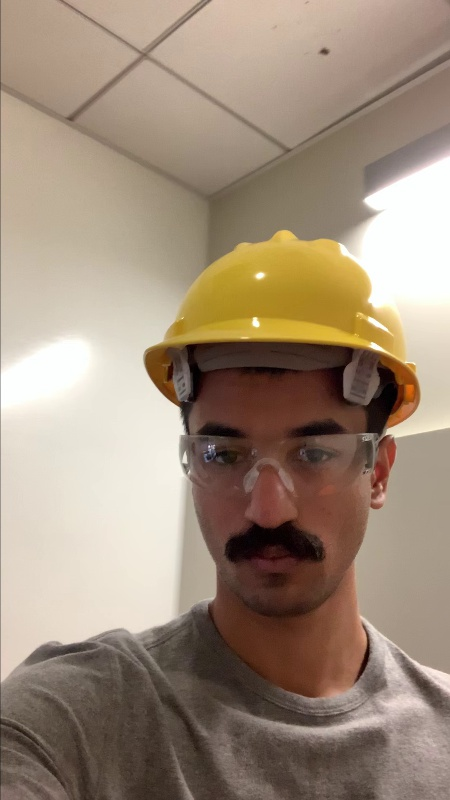glasses: (175, 428, 368, 486)
helmet: (153, 231, 406, 355)
